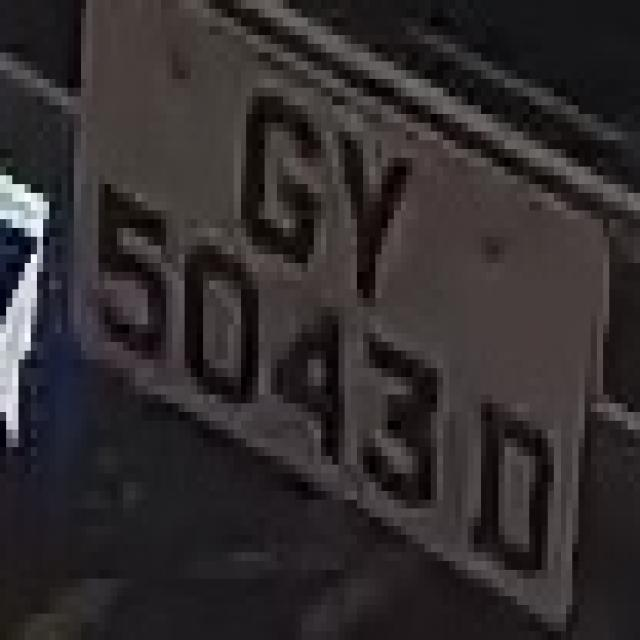0: (166, 193, 277, 421)
3: (351, 289, 443, 526)
4: (271, 254, 351, 491)
5: (86, 140, 166, 394)
D: (462, 377, 566, 614)
G: (222, 52, 332, 280)
Y: (320, 96, 412, 307)
